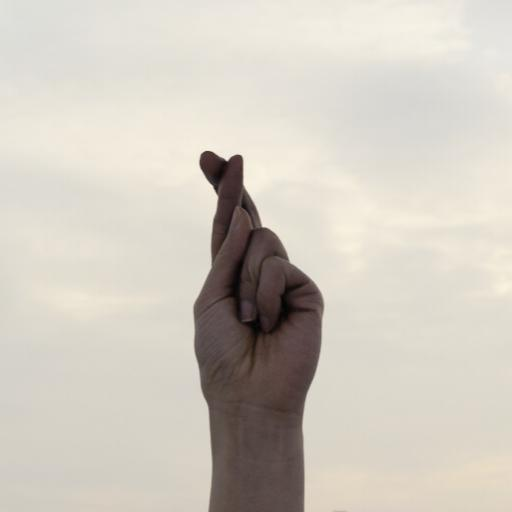R: (188, 148, 324, 412)
